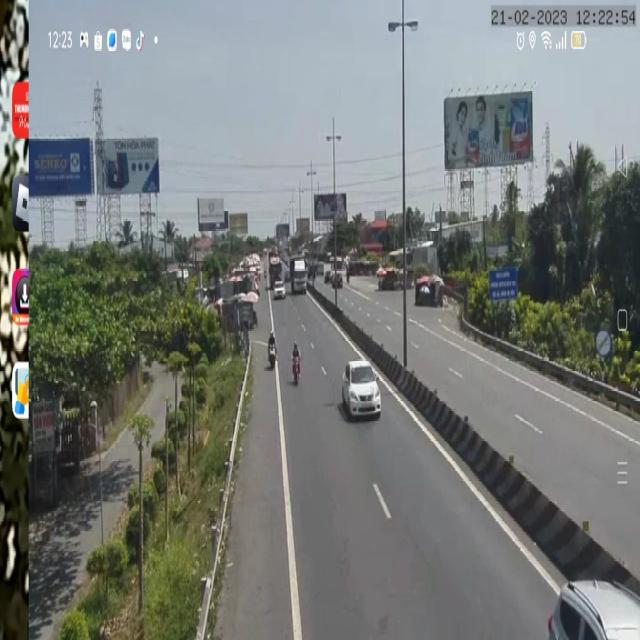car: (547, 569, 640, 640), (341, 359, 384, 424)
motorbike: (291, 339, 304, 386), (267, 330, 277, 367)
truck: (288, 255, 307, 295)
